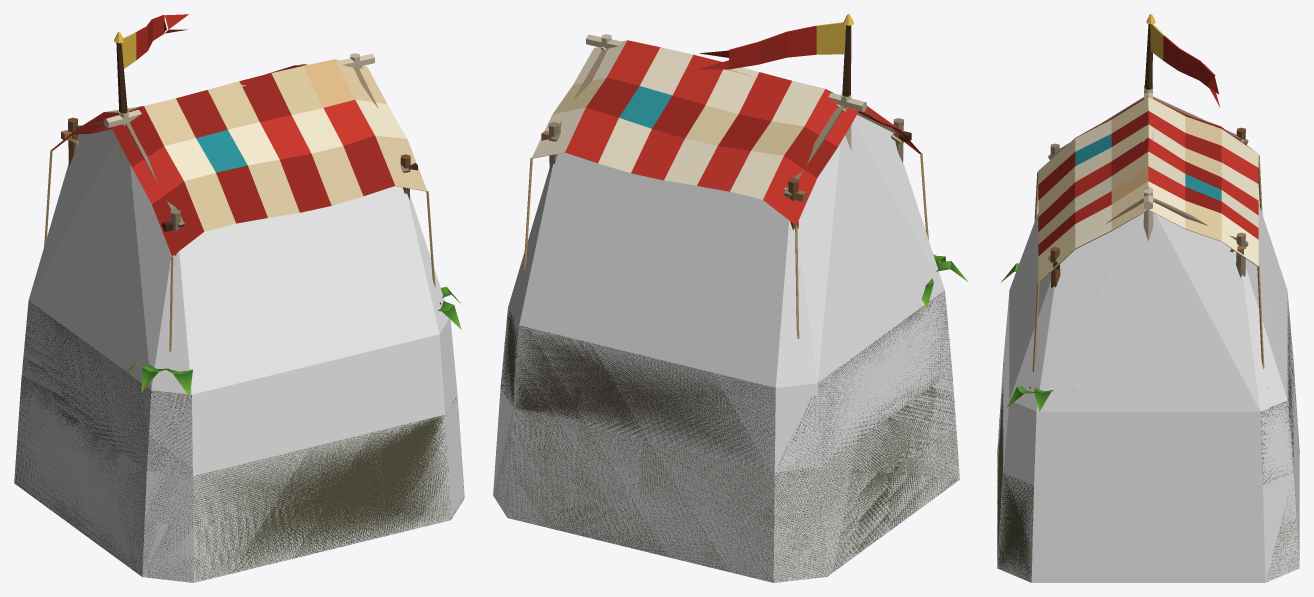
File: pirate_map_planning_table_tent.glb
3 views of the same model, side by side, from view 1: azimuth 30°, elevation 25°; view 2: azimuth 150°, elevation 25°; view 3: azimuth 270°, elevation 25° (orthographic). The views are drawn at different scales.
Parts seen in each view (by area): view 1: col_maptent_base, PirateMapPlanningTableTent; view 2: col_maptent_base, PirateMapPlanningTableTent; view 3: col_maptent_base, PirateMapPlanningTableTent.
Part boxes in pixels (box(x1,y1,x2,y2)): col_maptent_base: box(14, 129, 464, 582); PirateMapPlanningTableTent: box(14, 14, 464, 581); col_maptent_base: box(493, 115, 959, 582); PirateMapPlanningTableTent: box(494, 14, 967, 582); col_maptent_base: box(997, 203, 1299, 582); PirateMapPlanningTableTent: box(997, 14, 1299, 582).
Size of the model in its own units: 5.65 by 7.96 by 4.92.
